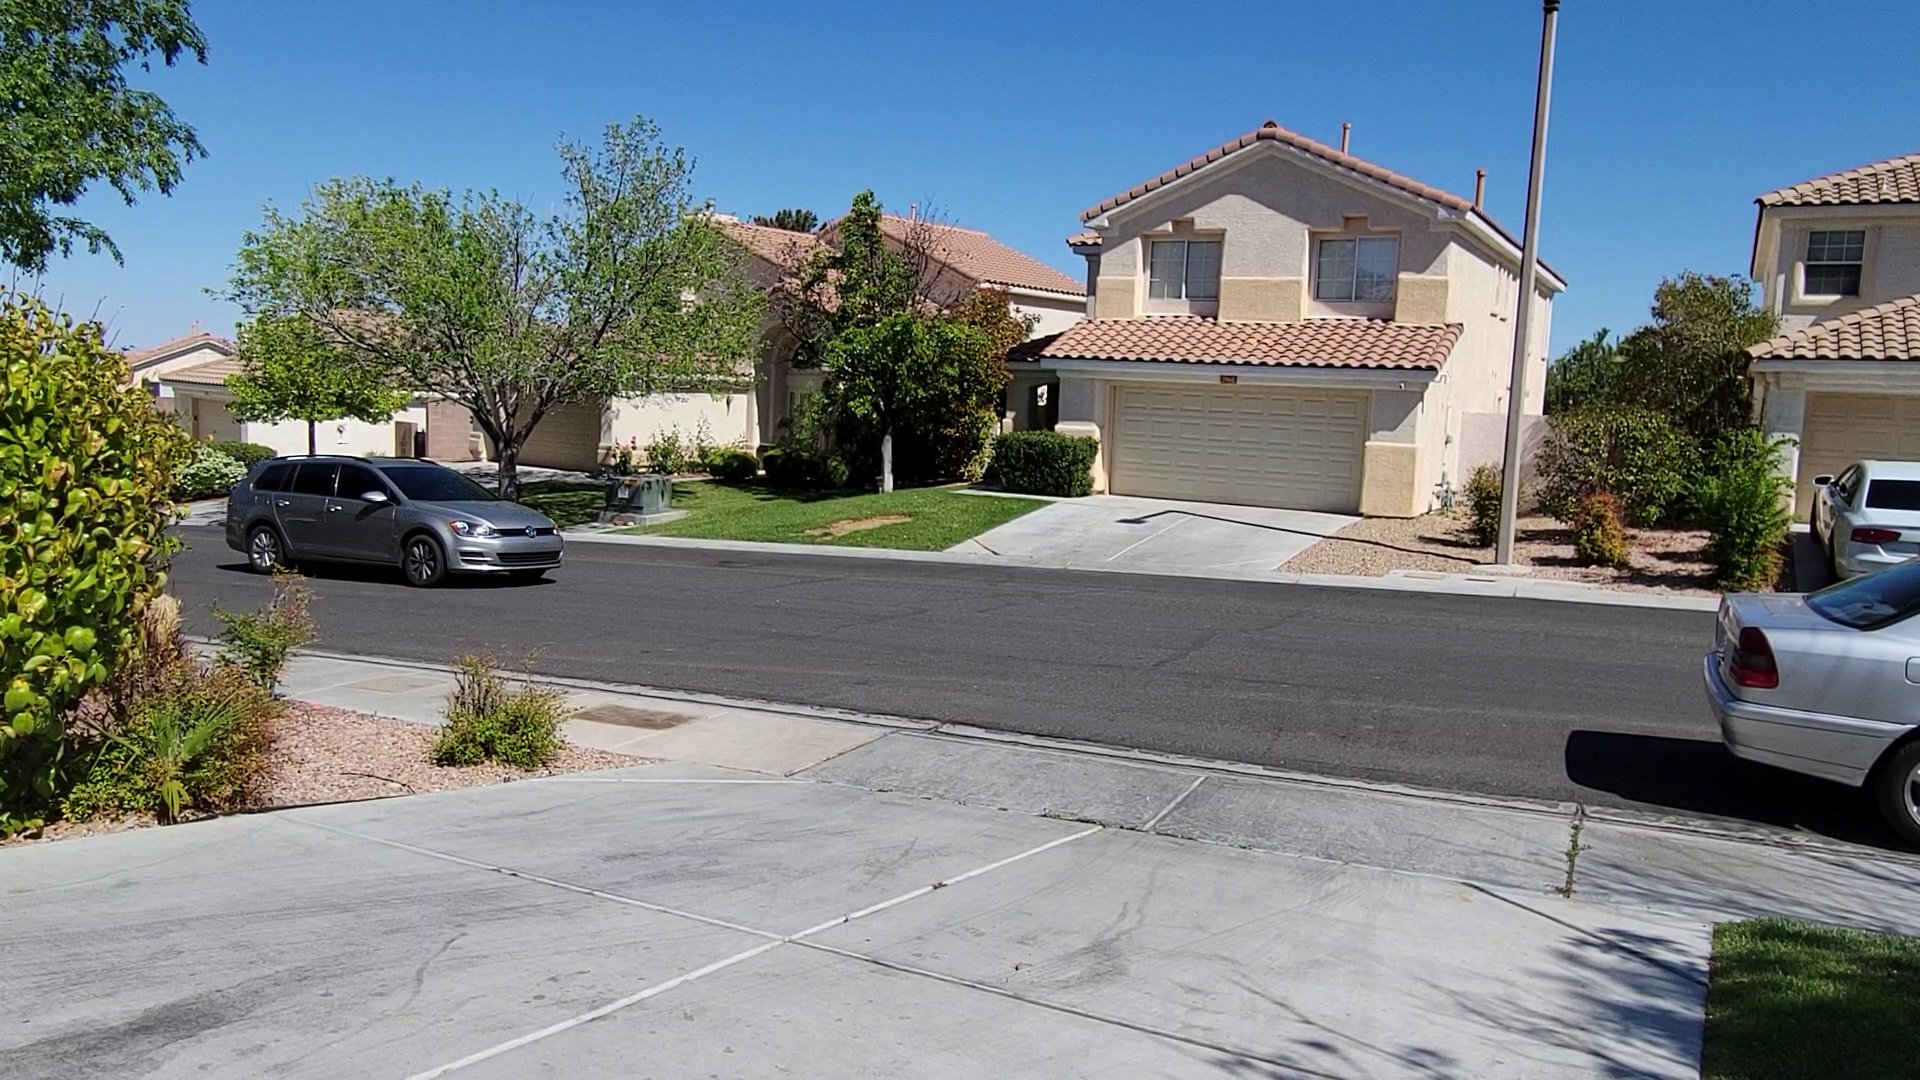car: (225, 452, 566, 589)
